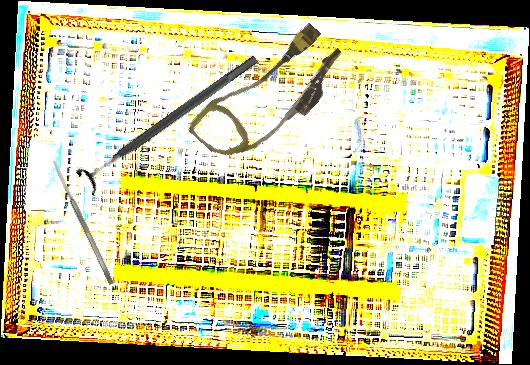Cannula: (185, 8, 354, 183)
Fixation Ring: (74, 44, 266, 198)
Spatula Surgical: (51, 159, 115, 286)
